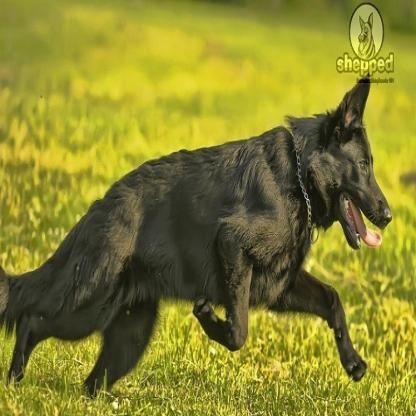german shepherd: (0, 70, 392, 393)
